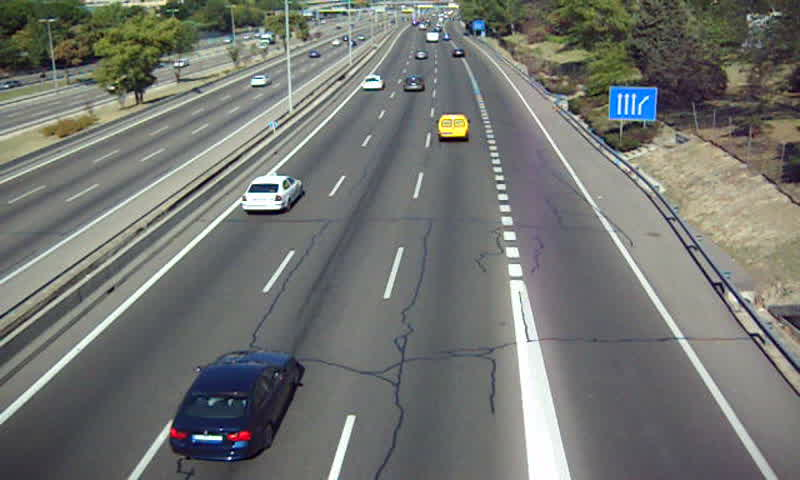car: (168, 350, 299, 461), (239, 175, 303, 213), (360, 74, 384, 92), (403, 76, 425, 93)
van: (438, 114, 468, 141)
